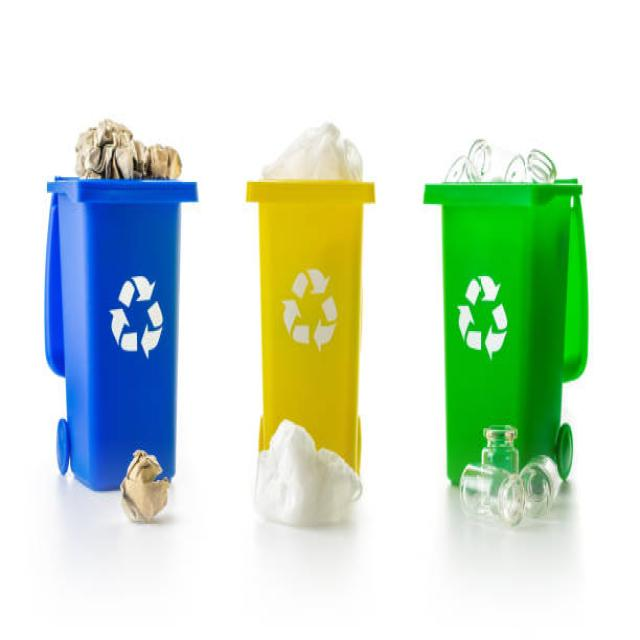glass: (443, 127, 562, 185)
paper: (70, 114, 188, 179)
plastic: (259, 118, 366, 184)
